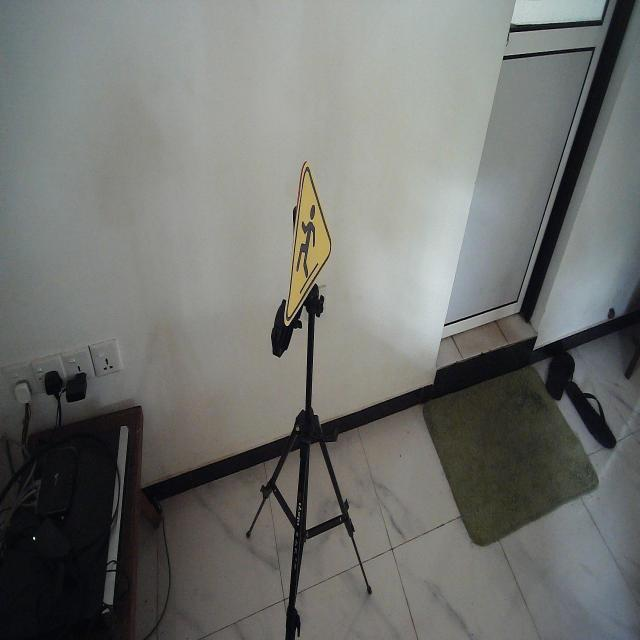slippery_sign: (282, 160, 334, 331)
